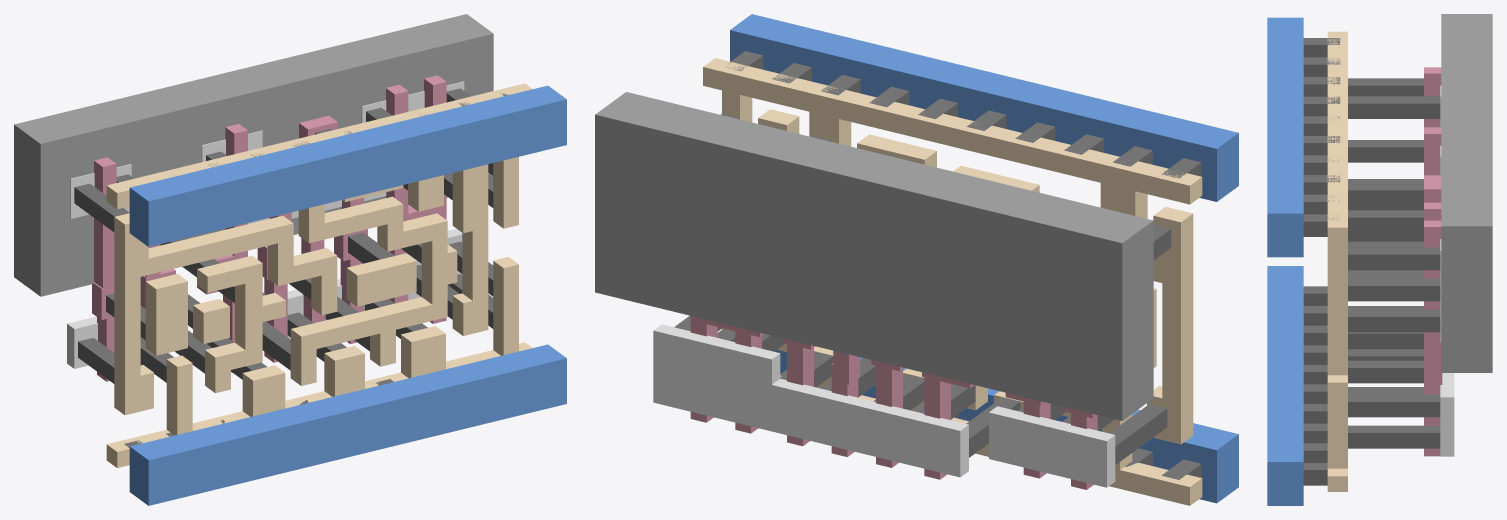
The model's file is sky130_fd_sc_hd__or4bb_2.gds.gltf.
The picture shows the model from 3 angles, left to right: view 1: azimuth 30°, elevation 25°; view 2: azimuth 150°, elevation 25°; view 3: azimuth 270°, elevation 25°; orthographic projection. The views are drawn at different scales.
Parts seen in each view (by area): view 1: sky130_fd_sc_hd__or4bb_2_li1, sky130_fd_sc_hd__or4bb_2_met1, sky130_fd_sc_hd__or4bb_2_nwell, sky130_fd_sc_hd__or4bb_2_licon, sky130_fd_sc_hd__or4bb_2_poly, sky130_fd_sc_hd__or4bb_2_diff; view 2: sky130_fd_sc_hd__or4bb_2_nwell, sky130_fd_sc_hd__or4bb_2_li1, sky130_fd_sc_hd__or4bb_2_met1, sky130_fd_sc_hd__or4bb_2_diff, sky130_fd_sc_hd__or4bb_2_poly, sky130_fd_sc_hd__or4bb_2_licon, sky130_fd_sc_hd__or4bb_2_mcon; view 3: sky130_fd_sc_hd__or4bb_2_licon, sky130_fd_sc_hd__or4bb_2_nwell, sky130_fd_sc_hd__or4bb_2_met1, sky130_fd_sc_hd__or4bb_2_mcon, sky130_fd_sc_hd__or4bb_2_li1, sky130_fd_sc_hd__or4bb_2_poly, sky130_fd_sc_hd__or4bb_2_diff.
Boxes of the visible parts, box(x1,y1,x2,y2) form: sky130_fd_sc_hd__or4bb_2_li1: box(106, 83, 532, 467); sky130_fd_sc_hd__or4bb_2_met1: box(129, 85, 566, 505); sky130_fd_sc_hd__or4bb_2_nwell: box(14, 14, 493, 296); sky130_fd_sc_hd__or4bb_2_licon: box(74, 88, 493, 383); sky130_fd_sc_hd__or4bb_2_poly: box(92, 75, 446, 381); sky130_fd_sc_hd__or4bb_2_diff: box(67, 81, 464, 368); sky130_fd_sc_hd__or4bb_2_nwell: box(595, 92, 1153, 420); sky130_fd_sc_hd__or4bb_2_li1: box(703, 58, 1202, 505); sky130_fd_sc_hd__or4bb_2_met1: box(730, 14, 1238, 503); sky130_fd_sc_hd__or4bb_2_diff: box(653, 324, 1115, 487); sky130_fd_sc_hd__or4bb_2_poly: box(690, 316, 1097, 489); sky130_fd_sc_hd__or4bb_2_licon: box(674, 113, 1171, 464); sky130_fd_sc_hd__or4bb_2_mcon: box(726, 51, 1201, 479); sky130_fd_sc_hd__or4bb_2_licon: box(1348, 78, 1440, 448); sky130_fd_sc_hd__or4bb_2_nwell: box(1441, 14, 1492, 372); sky130_fd_sc_hd__or4bb_2_met1: box(1267, 17, 1303, 505); sky130_fd_sc_hd__or4bb_2_mcon: box(1303, 38, 1340, 485); sky130_fd_sc_hd__or4bb_2_li1: box(1327, 31, 1347, 491); sky130_fd_sc_hd__or4bb_2_poly: box(1424, 67, 1442, 456); sky130_fd_sc_hd__or4bb_2_diff: box(1440, 85, 1454, 456).
Size of the model in its own units: 4.98 by 3.2 by 2.24.
